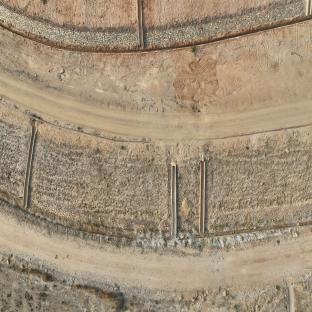rock_toe: (144, 0, 305, 46), (1, 5, 139, 47), (28, 191, 169, 231), (205, 204, 312, 233), (178, 218, 199, 234)
slope_drain: (23, 126, 37, 208), (199, 156, 205, 233), (171, 163, 177, 235), (137, 0, 144, 49)
toe_drain: (0, 196, 312, 243), (0, 14, 312, 55)
